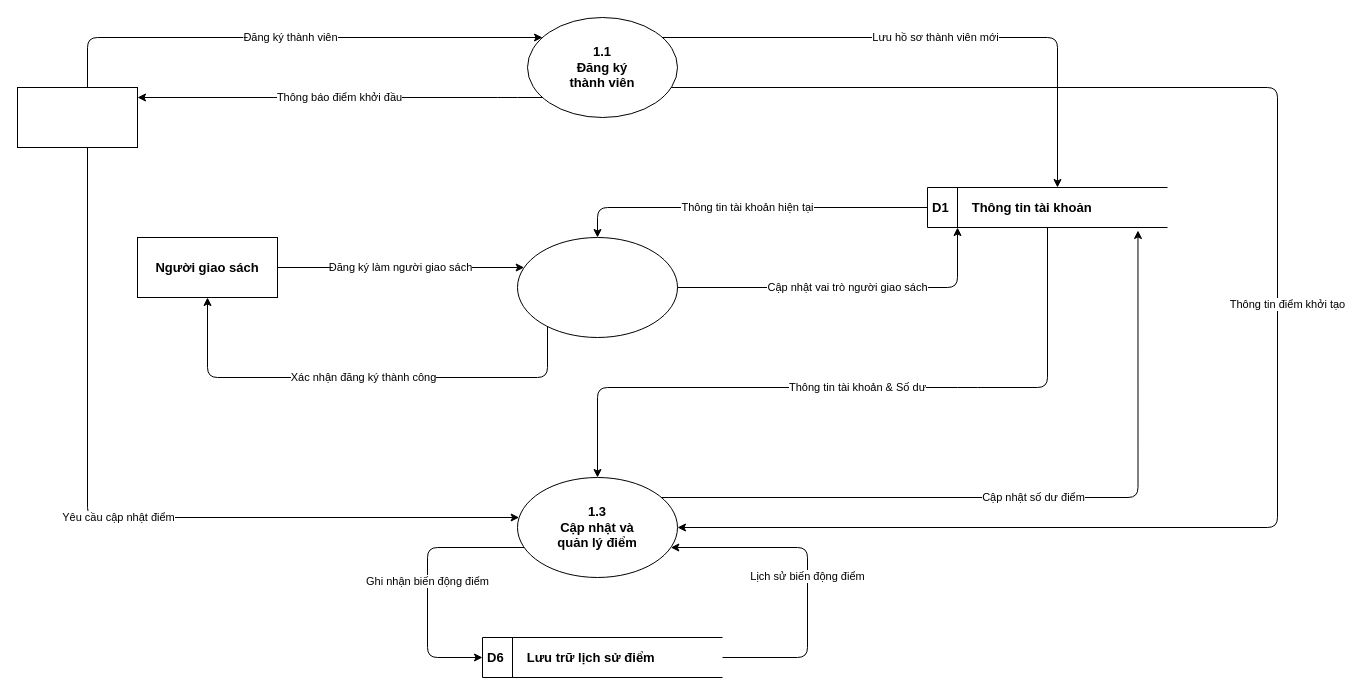
Image size: 1362x695. Some labels were removed from this diagram. Here are the shapes that lost their labels. From the top down, the centre of each, then its label:
[77,117]: Thành viên
[597,287]: 1.2 Đăng ký người giao sách
